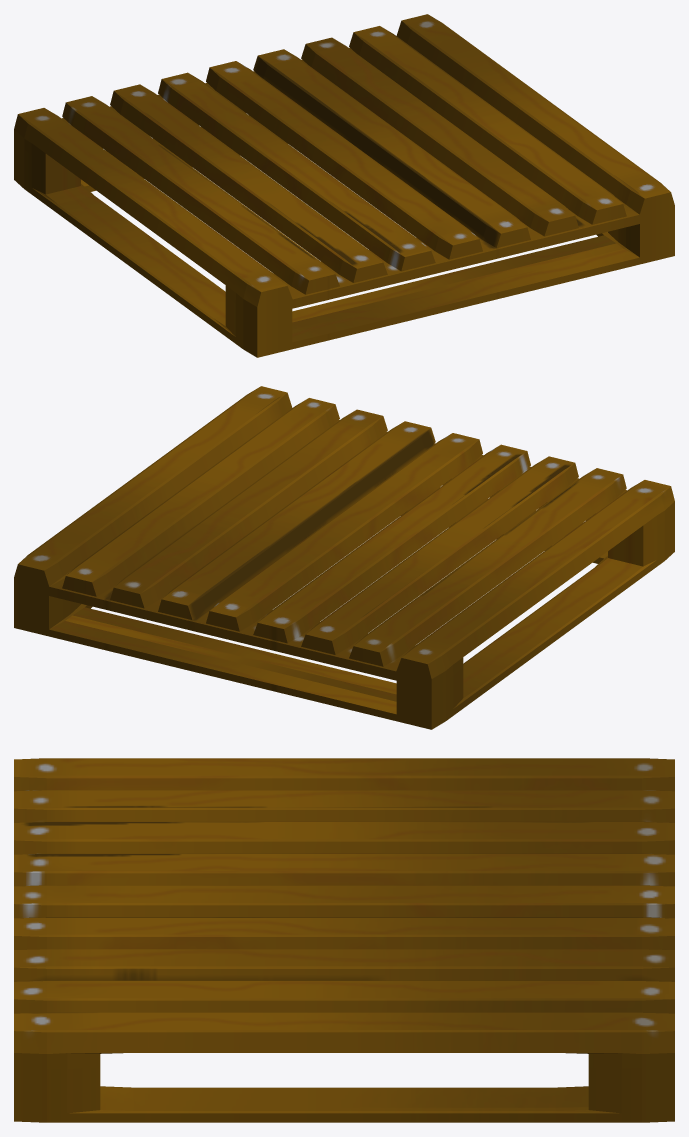
Rendered from Palet-1.glb.
The picture shows the model from 3 angles, top to bottom: view 1: azimuth 30°, elevation 25°; view 2: azimuth 150°, elevation 25°; view 3: azimuth 270°, elevation 25°; orthographic projection. The views are drawn at different scales.
Parts seen in each view (by area): view 1: Palet-1; view 2: Palet-1; view 3: Palet-1.
Boxes of the visible parts, x1,y1,x2,y2 form: Palet-1: [14, 14, 674, 357]; Palet-1: [14, 386, 674, 729]; Palet-1: [14, 758, 674, 1122].
Bounding box in the file's own units: 2 × 0.3 × 2.
Materials: 1 (1 with a texture image).
